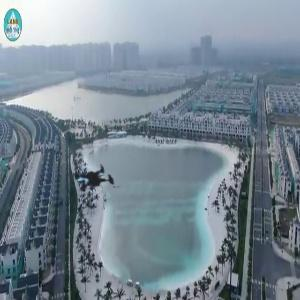drone: (55, 141, 134, 220)
